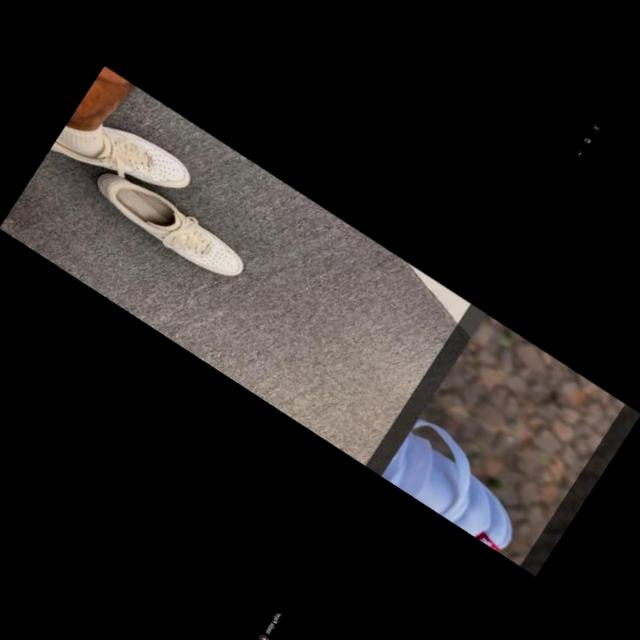nike_original_airforce: (81, 133, 259, 316), (39, 74, 208, 246)
